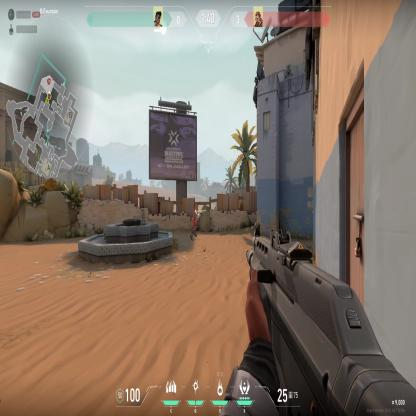enemy: (190, 204, 198, 241)
